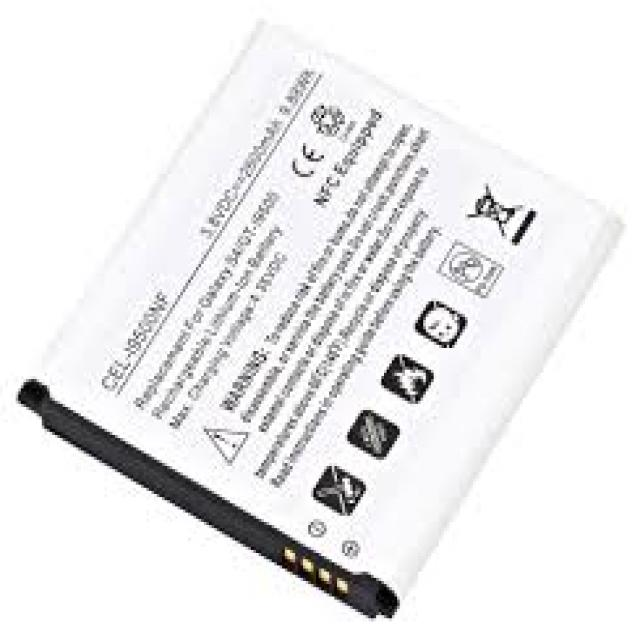non-organic waste: (20, 27, 620, 615)
